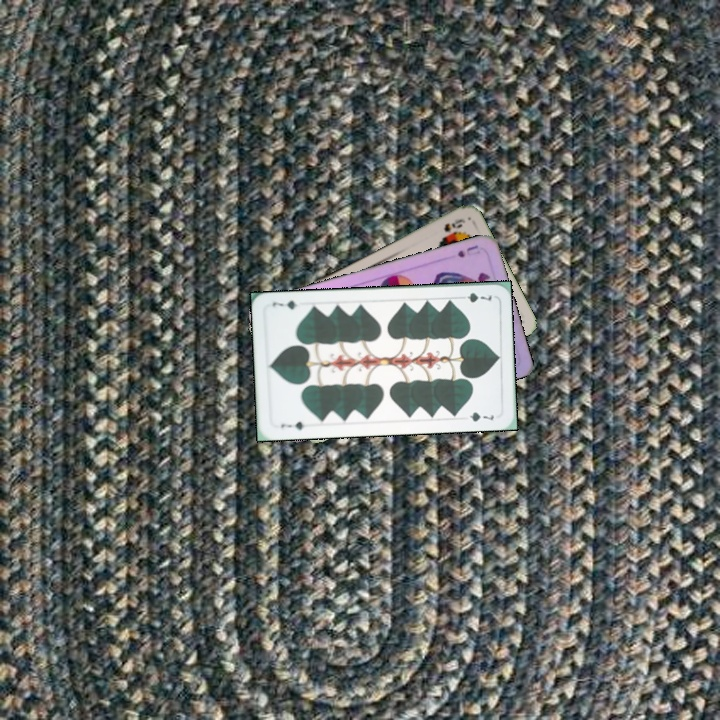G7: (454, 289, 494, 305), (277, 417, 307, 432)
SO: (440, 215, 467, 235)
SU: (453, 241, 483, 260)
